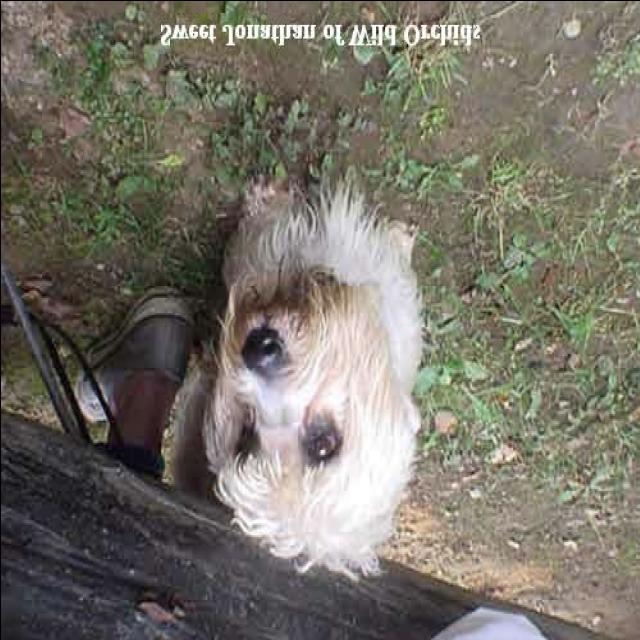dandie_dinmont: (196, 170, 427, 580)
